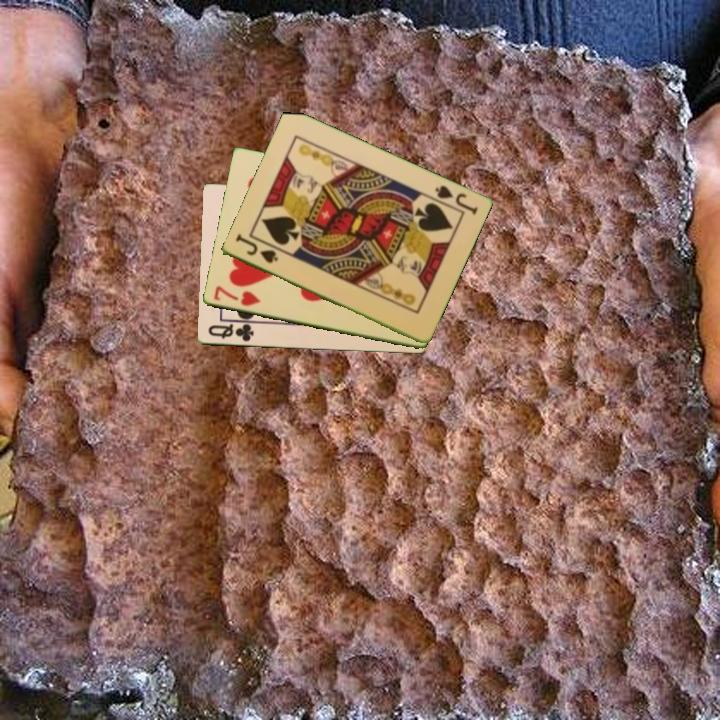7h: (210, 283, 263, 309)
Js: (431, 182, 481, 218), (231, 232, 281, 267)
Qc: (205, 321, 256, 345)
